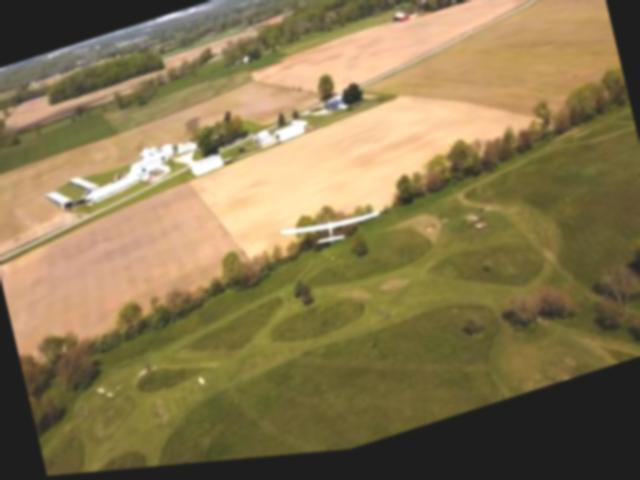uav: (270, 194, 389, 279)
